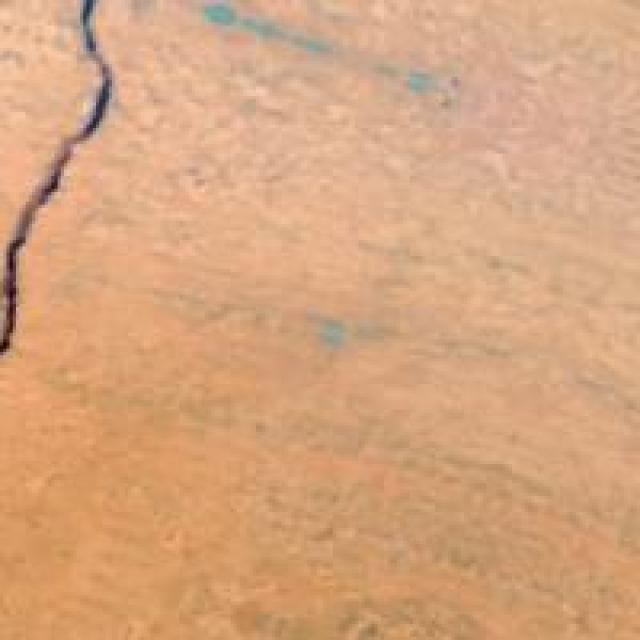crack: (0, 0, 147, 419)
